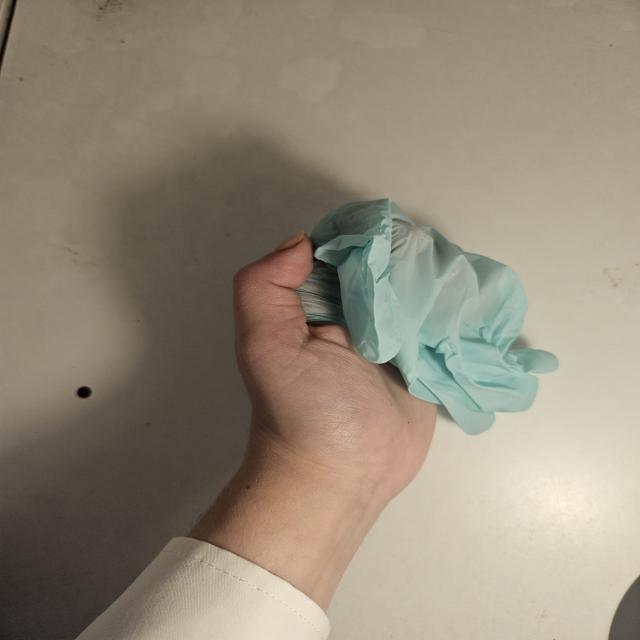glove_partial: (230, 198, 560, 486)
